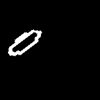chain: (8, 30, 41, 55)
